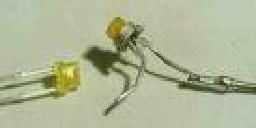LED: (50, 59, 83, 97), (100, 16, 141, 42)
